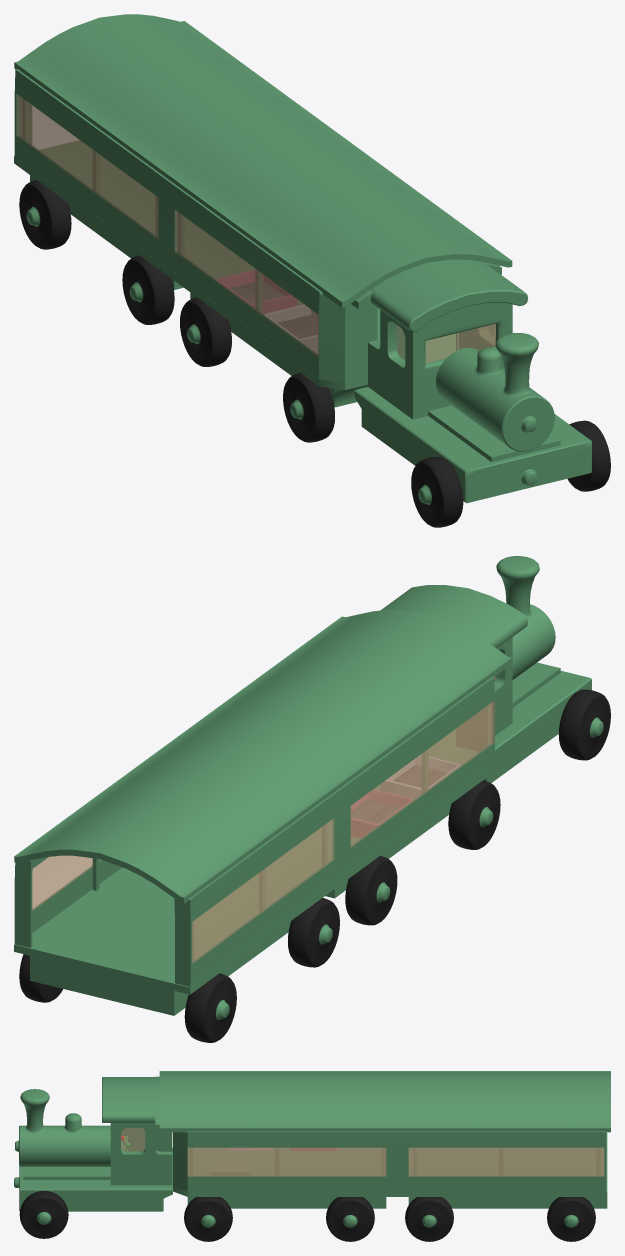
File: CatTrainUpgrade2.fbx
3 views of the same model, one above another, from view 1: azimuth 30°, elevation 25°; view 2: azimuth 150°, elevation 25°; view 3: azimuth 270°, elevation 25° (orthographic). The views are drawn at different scales.
Parts seen in each view (by area): view 1: TrainUpgrade2, CatBed; view 2: TrainUpgrade2, CatBed; view 3: TrainUpgrade2, Chest2, CatBed.
Boxes of the visible parts, bbox=[...] form: TrainUpgrade2: bbox=[14, 14, 610, 527]; CatBed: bbox=[217, 270, 317, 352]; TrainUpgrade2: bbox=[14, 556, 610, 1042]; CatBed: bbox=[351, 755, 459, 837]; TrainUpgrade2: bbox=[14, 1071, 610, 1241]; Chest2: bbox=[211, 1163, 250, 1175]; CatBed: bbox=[225, 1148, 337, 1150].
Size of the model in its own units: 278 by 252 by 1058.
